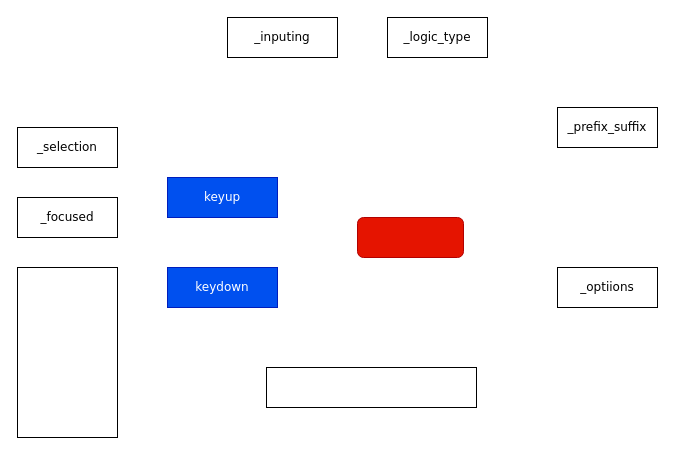
Image size: 675x455. Some labels were removed from this diagram. The shapes that lost their labels are listed below. From the top down, each one's centre as x and y in pixels, then its label:
the point at 410,237: <Input>
the point at 67,352: Key Which Alt Ctrl Shift Meta/Cmd
the point at 371,387: item | icon | value | tip
